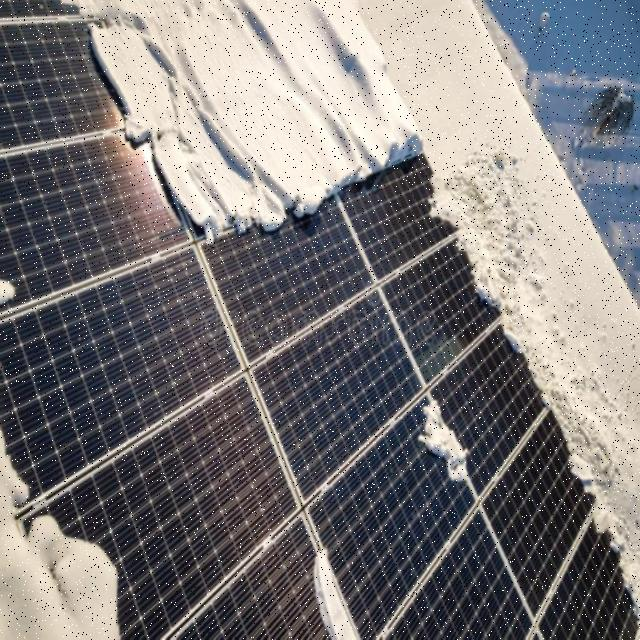snow covered: (3, 4, 411, 308)
